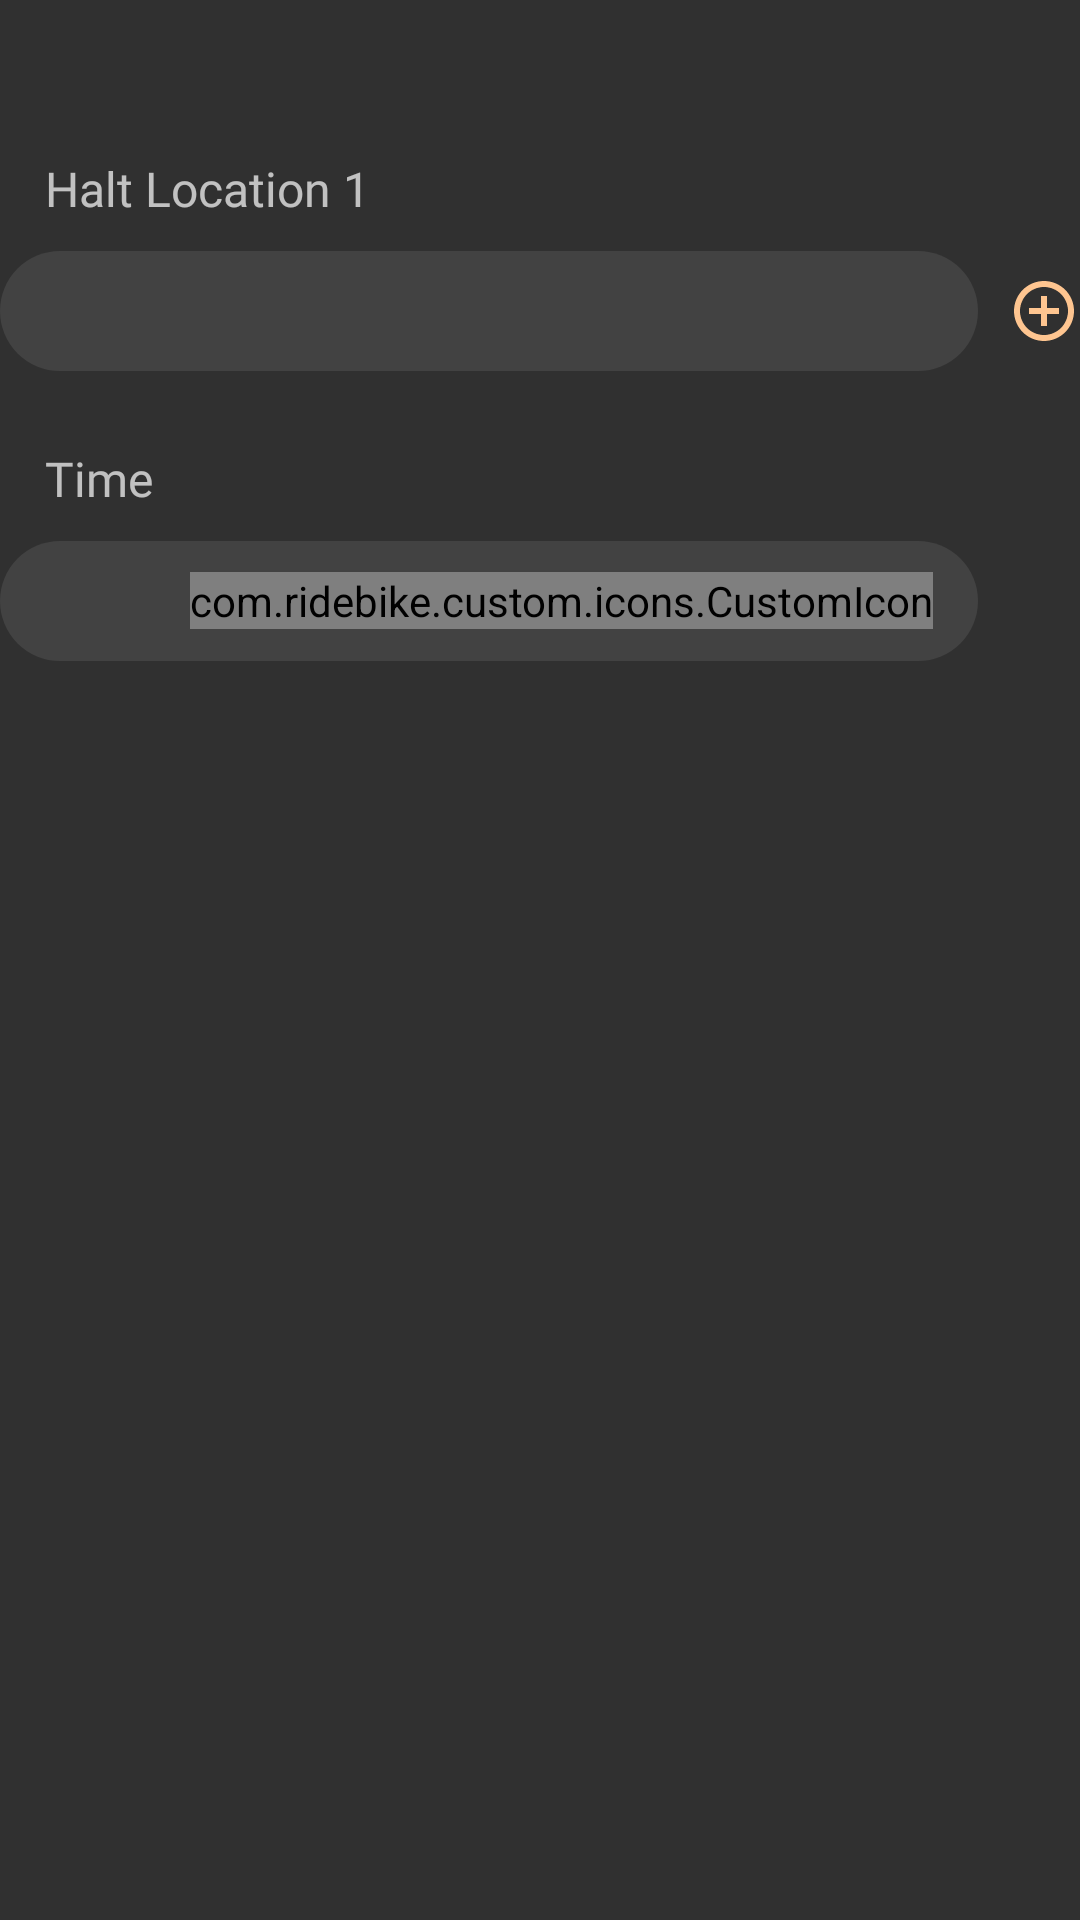

Where to tap for icons on this 1080x1920 app screen, as point (x, y):
add circle: point (1044, 311)
